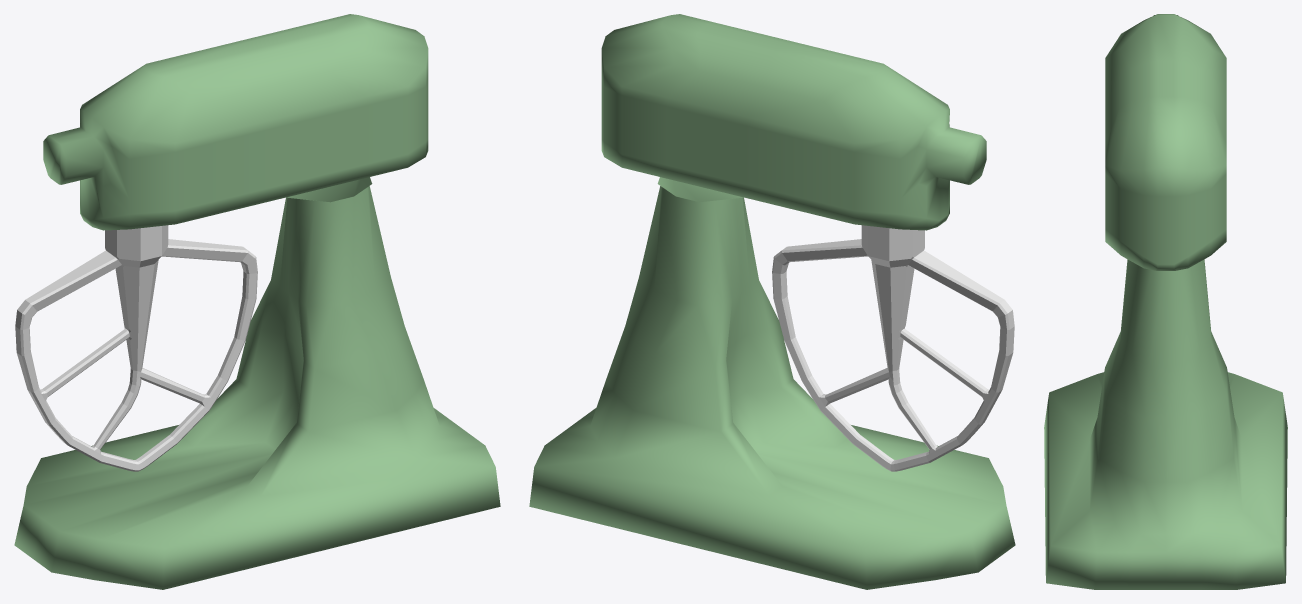
The model's file is StandMIxer.fbx.
3 renders of one model, left to right at view 1: azimuth 30°, elevation 25°; view 2: azimuth 150°, elevation 25°; view 3: azimuth 270°, elevation 25°, orthographic. The views are drawn at different scales.
Parts seen in each view (by area): view 1: MixerBase, MixerTop, MixerAttatchment; view 2: MixerBase, MixerTop, MixerAttatchment; view 3: MixerBase, MixerTop.
Boxes of the visible parts, bbox=[...] form: MixerBase: bbox=[14, 186, 500, 589]; MixerTop: bbox=[43, 14, 428, 230]; MixerAttatchment: bbox=[15, 225, 257, 471]; MixerBase: bbox=[529, 186, 1015, 589]; MixerTop: bbox=[601, 14, 986, 230]; MixerAttatchment: bbox=[772, 225, 1014, 471]; MixerBase: bbox=[1044, 259, 1287, 589]; MixerTop: bbox=[1105, 14, 1226, 270].
Bounding box in the file's own units: 94.08 × 95.3 × 48.36.
